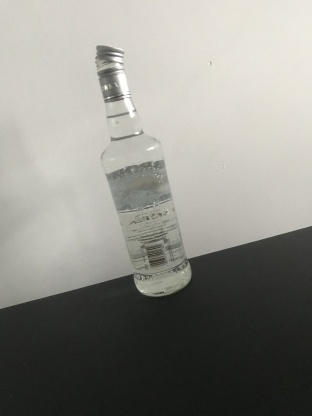nakretka: (93, 42, 133, 104)
